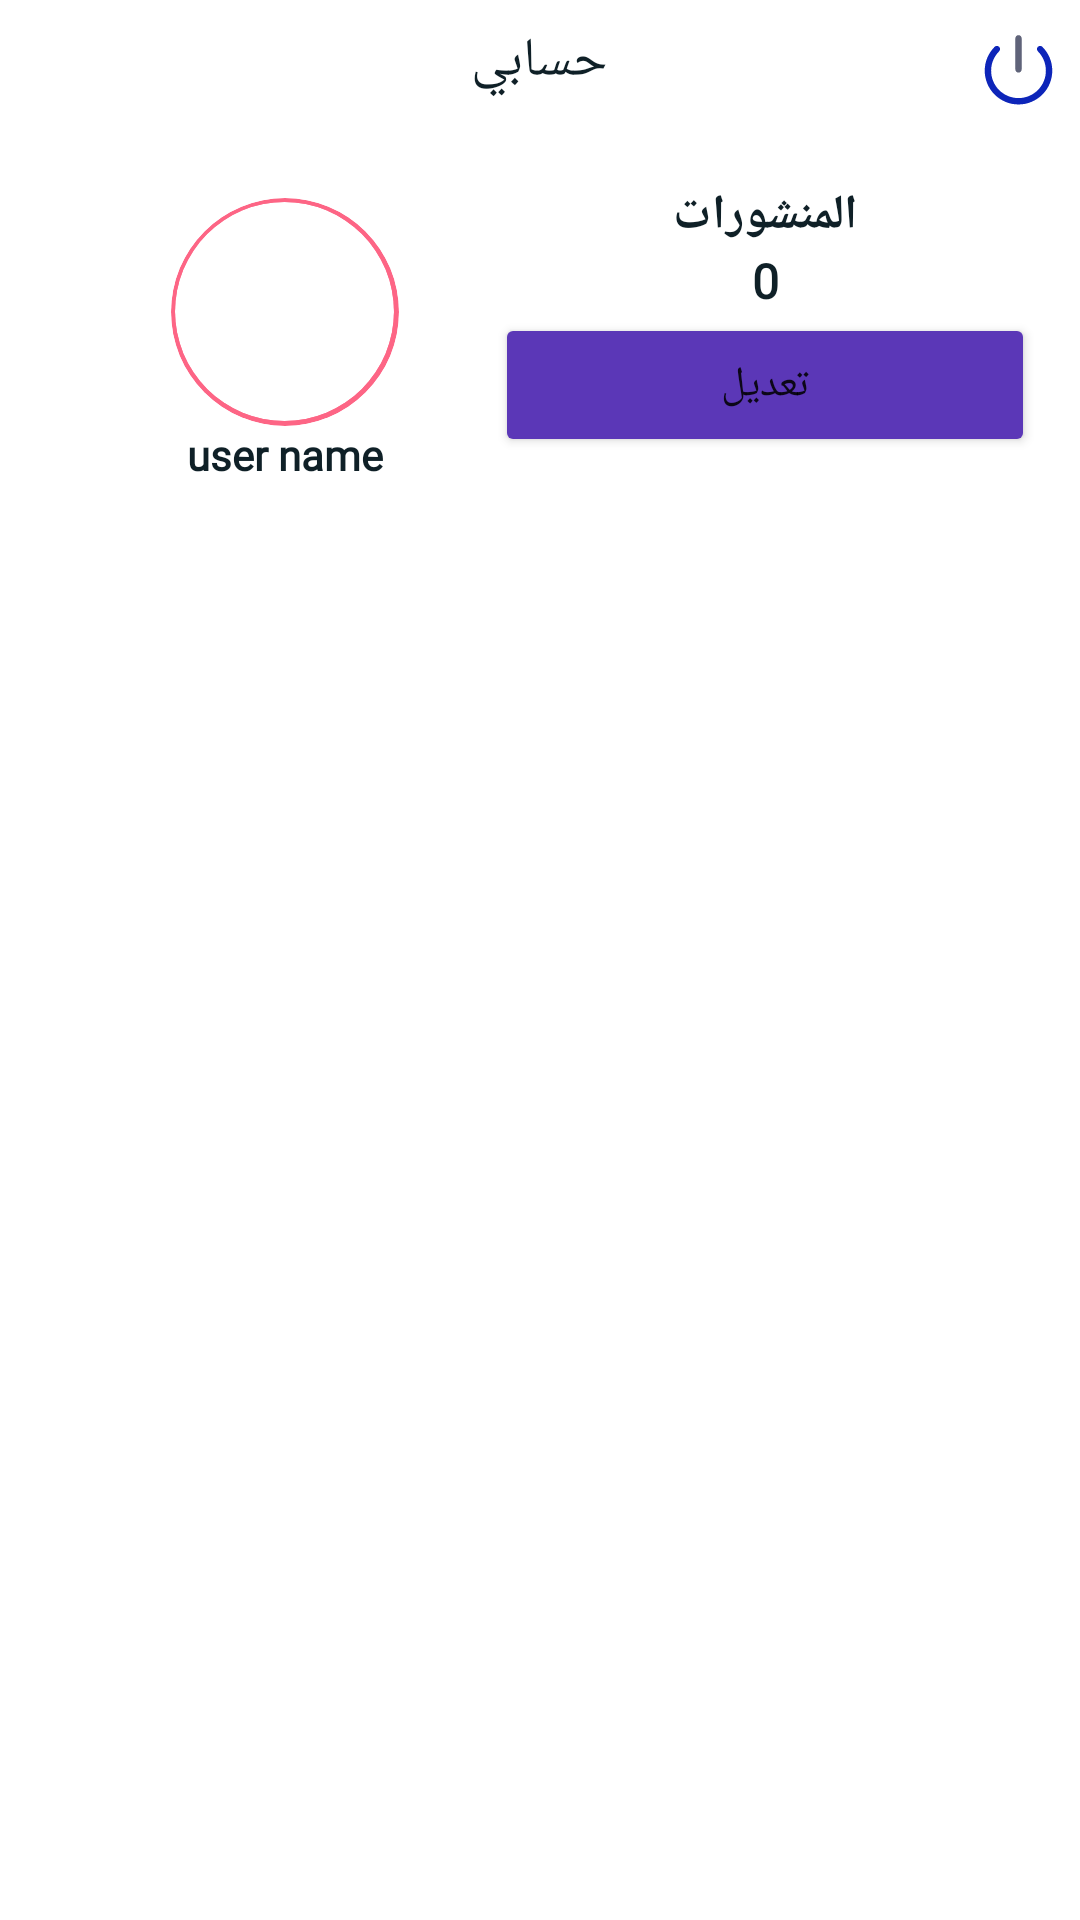

Icon bounding boxes for this 1080 x 1920 phone screenshot, format (x1, y1, x2, y2):
shutdown: (984, 35, 1053, 105)
